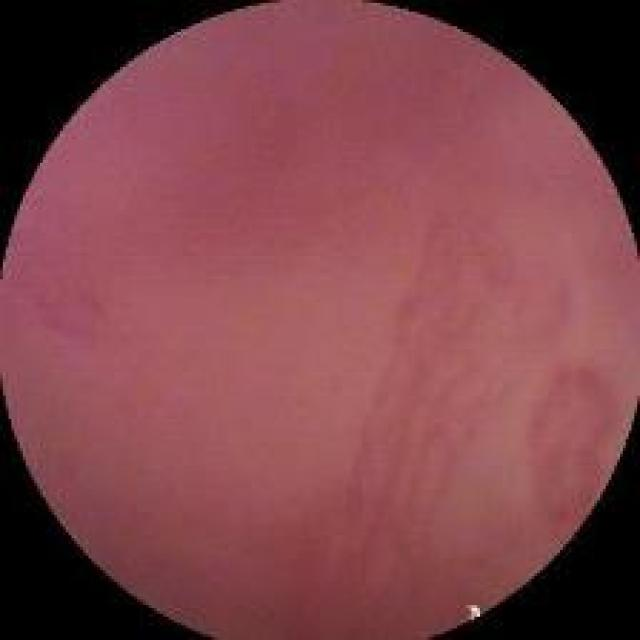blur: (3, 5, 635, 637)
color misalignment: (460, 598, 491, 631)
